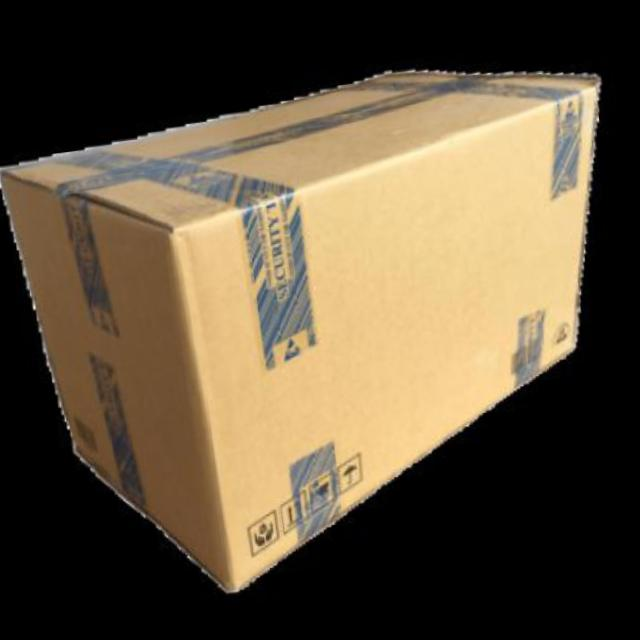box: (0, 46, 640, 616)
